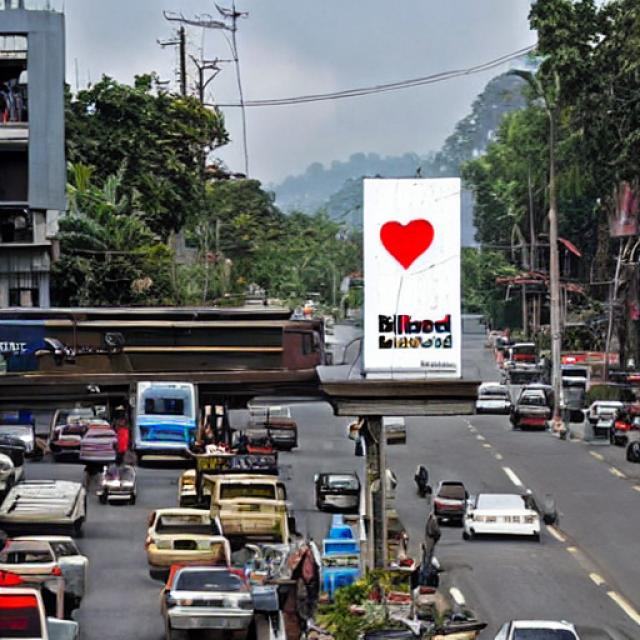Billboard: (361, 173, 463, 384)
